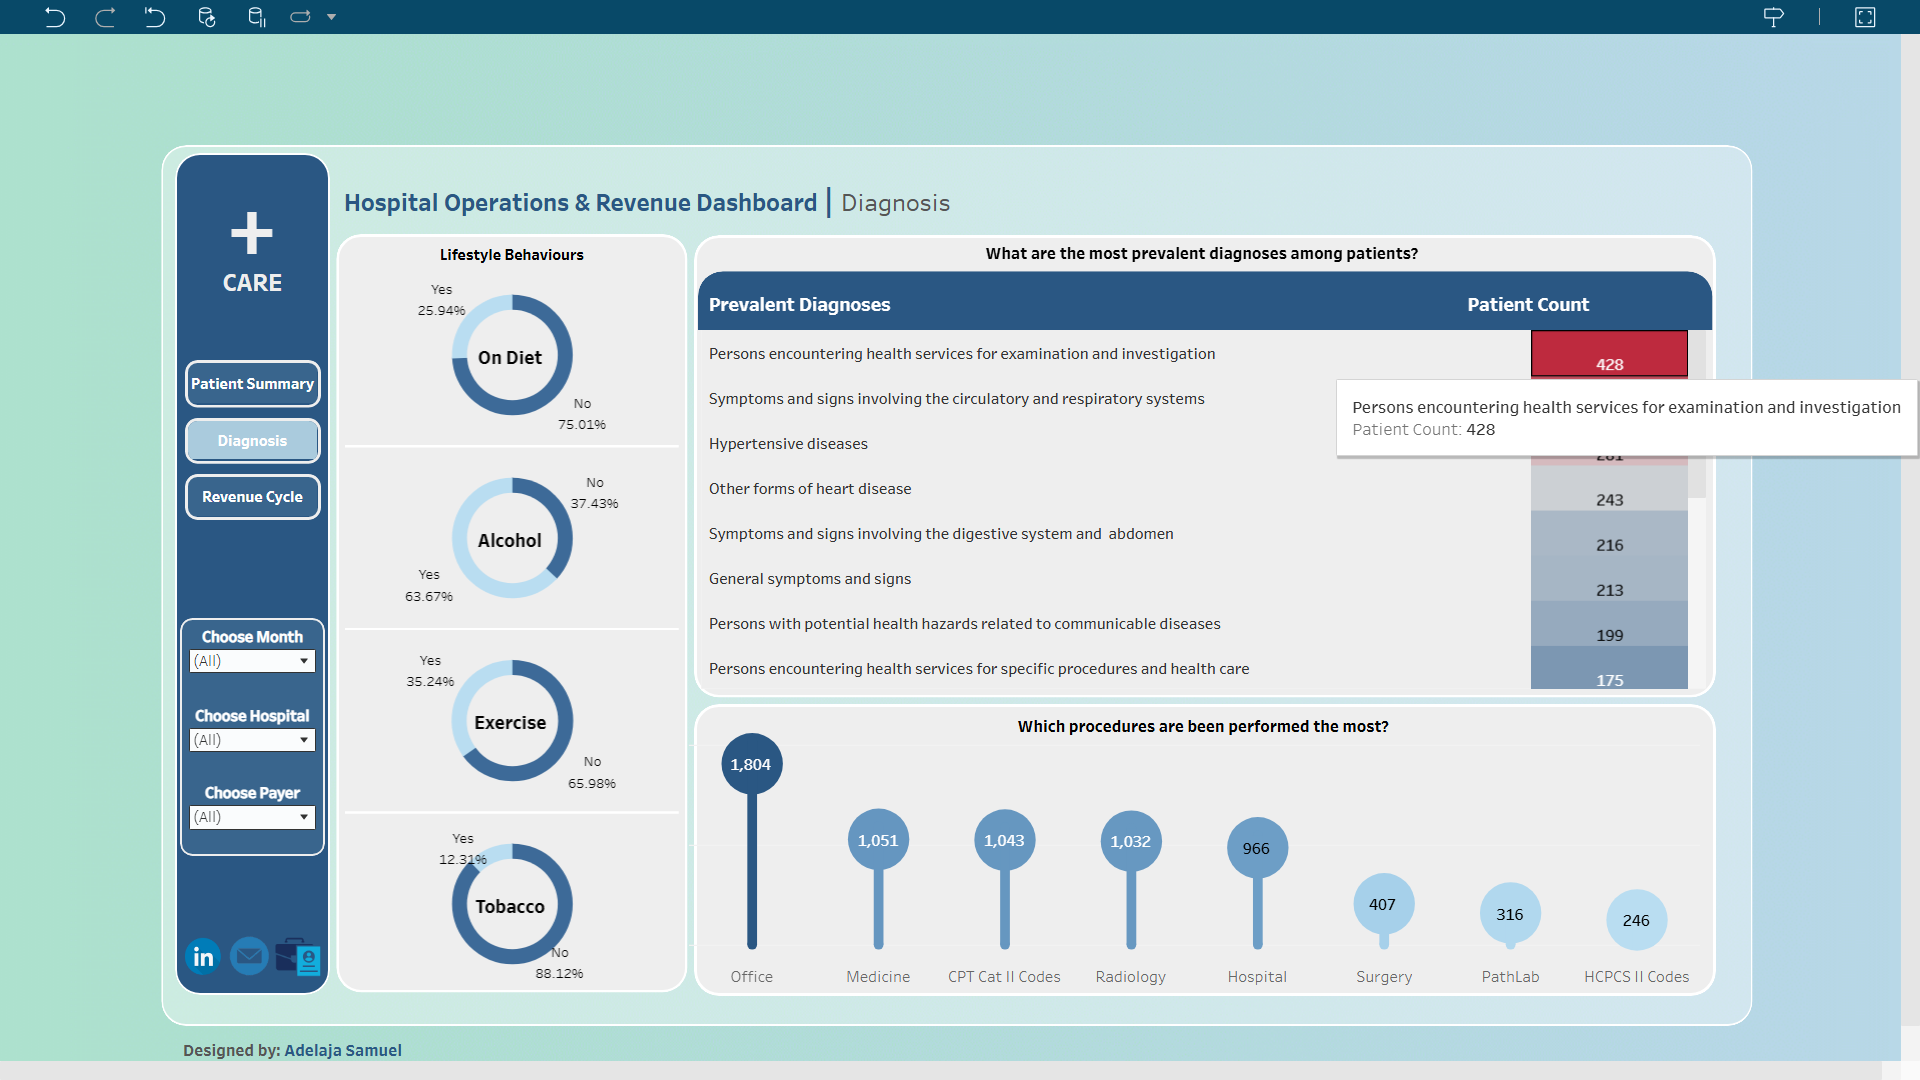

The page's visual inventory and layout, read from the dashboard file:
{"tool":"tableau","page":{"name":"Diagnosis","canvas":[1000,1000],"units":"permille","ordinal":0},"visuals":[{"type":"text","box":[179.2,116.3,414,78.7]},{"type":"text","box":[92.9,142.2,76.6,79.9]},{"type":"text","box":[362.1,173.9,529.9,63.5]},{"type":"text","box":[176.6,190.9,179.7,27.8]},{"type":"text","box":[93.5,212.7,75.4,40]},{"type":"worksheet","title":"Diet Pie","mark":"Pie","cols":["Calculation_0490683128688645","Calculation_0490683128705031"],"box":[176.6,218.7,179.7,163]},{"type":"text","box":[369.3,236.2,150.9,35.2]},{"type":"text","box":[764.6,236.2,112.9,35.2]},{"type":"worksheet","title":"Diagnosis Count","mark":"Square","rows":["DiagnosisCodeGroup (DimDiagnosisCode_lookup.csv1)"],"box":[365.1,278.5,526.2,338.4]},{"type":"dashboard-object","box":[93.2,302,76.6,53.7]},{"type":"worksheet","title":"Filters","mark":"Automatic","box":[360.4,336.1,332.9,332.6]},{"type":"dashboard-object","box":[93.2,355.7,76.6,53.7]},{"type":"blank","box":[176.6,381.7,179.7,9.6]},{"type":"worksheet","title":"Alcohol Pie","mark":"Pie","cols":["Calculation_0490683124408321","Calculation_0490683124432899"],"box":[176.6,391.3,179.7,163]},{"type":"dashboard-object","box":[93.2,409.4,76.6,52.7]},{"type":"filter","title":"Filters","param":"[federated.0z8uwsd0tka1uq18ebl20149izpv].[none:Month:nk]","box":[94.8,552.2,74,73.8]},{"type":"blank","box":[176.6,554.3,179.7,9.6]},{"type":"worksheet","title":"Exercise Pie","mark":"Pie","cols":["Calculation_0490683132379145","Calculation_0490683132391435"],"box":[176.6,563.9,179.7,163]},{"type":"filter","title":"Filters","param":"[federated.0z8uwsd0tka1uq18ebl20149izpv].[none:LocationName:nk]","box":[94.8,626.1,74,73.8]},{"type":"text","box":[362.7,631,529.9,40]},{"type":"worksheet","title":"CPT Count","mark":"Line","rows":["Calculation_0639937944064003"],"cols":["CptGrouping"],"box":[358.5,652.2,526.9,266.8]},{"type":"filter","title":"Filters","param":"[federated.0z8uwsd0tka1uq18ebl20149izpv].[none:PayerName:nk]","box":[94.8,699.9,74,72.9]},{"type":"blank","box":[176.6,727,179.7,9.6]},{"type":"worksheet","title":"Tobaco Pie","mark":"Pie","cols":["Calculation_0490683134595085","Calculation_0490683134615567"],"box":[176.6,736.6,179.7,163]},{"type":"image","param":"C:/Users/HomePC/Pictures/Projects/socials/trans gmail.png","box":[107.4,828.4,44.7,78.7]},{"type":"image","param":"C:/Users/HomePC/Pictures/Projects/socials/social_16033412.png","box":[96.6,847.2,18.7,42.3]},{"type":"image","param":"C:/Users/HomePC/Pictures/Projects/socials/portfolio_18526710.png","box":[143,847.2,24.1,43.5]},{"type":"text","box":[81.5,937.7,141.8,35.2]}]}

Visuals, with their boxes on the dashboard's canvas, which has no fixed pixel size, in thousandths of its width and height (x1, y1, x2, y2). These are canvas units, not pixel positions in the 1920x1080 screenshot, which may show the page scaled, cropped or inside an application window:
text: [left=179, top=116, right=593, bottom=195]
text: [left=93, top=142, right=170, bottom=222]
text: [left=362, top=174, right=892, bottom=237]
text: [left=177, top=191, right=356, bottom=219]
text: [left=94, top=213, right=169, bottom=253]
"Diet Pie" worksheet (Pie marks): [left=177, top=219, right=356, bottom=382]
text: [left=369, top=236, right=520, bottom=271]
text: [left=765, top=236, right=878, bottom=271]
"Diagnosis Count" worksheet (Square marks): [left=365, top=278, right=891, bottom=617]
dashboard-object: [left=93, top=302, right=170, bottom=356]
"Filters" worksheet: [left=360, top=336, right=693, bottom=669]
dashboard-object: [left=93, top=356, right=170, bottom=409]
blank: [left=177, top=382, right=356, bottom=391]
"Alcohol Pie" worksheet (Pie marks): [left=177, top=391, right=356, bottom=554]
dashboard-object: [left=93, top=409, right=170, bottom=462]
"Filters" filter: [left=95, top=552, right=169, bottom=626]
blank: [left=177, top=554, right=356, bottom=564]
"Exercise Pie" worksheet (Pie marks): [left=177, top=564, right=356, bottom=727]
"Filters" filter: [left=95, top=626, right=169, bottom=700]
text: [left=363, top=631, right=893, bottom=671]
"CPT Count" worksheet (Line marks): [left=358, top=652, right=885, bottom=919]
"Filters" filter: [left=95, top=700, right=169, bottom=773]
blank: [left=177, top=727, right=356, bottom=737]
"Tobaco Pie" worksheet (Pie marks): [left=177, top=737, right=356, bottom=900]
image: [left=107, top=828, right=152, bottom=907]
image: [left=97, top=847, right=115, bottom=890]
image: [left=143, top=847, right=167, bottom=891]
text: [left=82, top=938, right=223, bottom=973]
